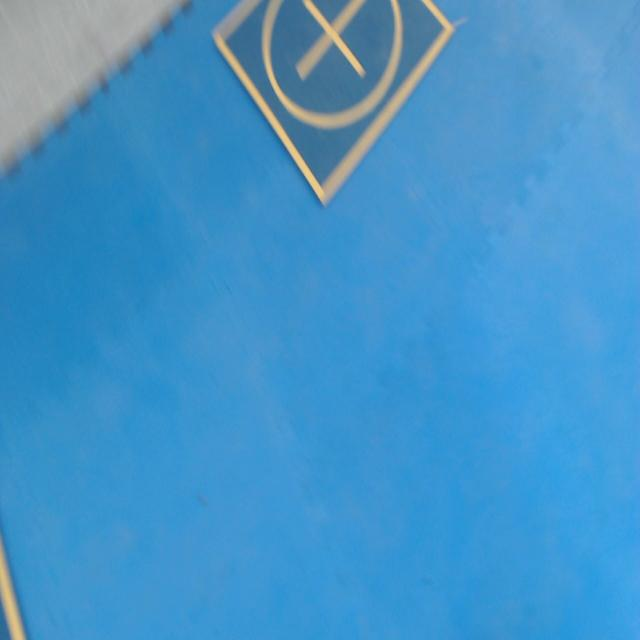base_pouso: (213, 0, 457, 210), (1, 530, 30, 639)
